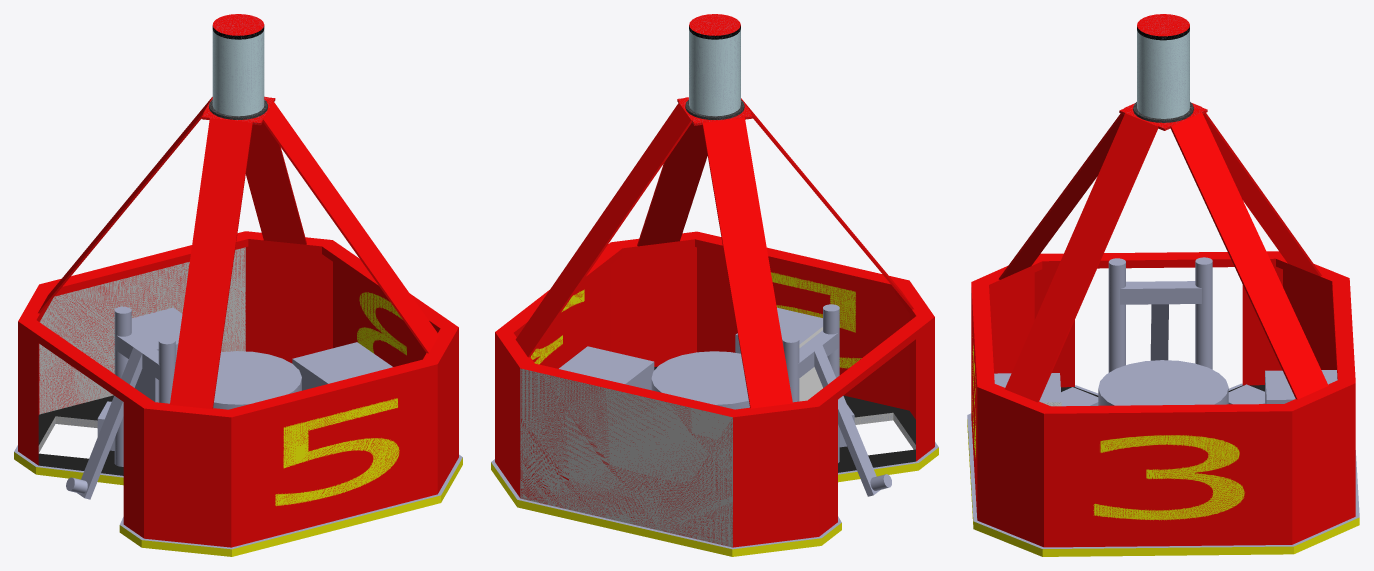
File: rival_frame5.dae
3 views of the same model, side by side, from view 1: azimuth 30°, elevation 25°; view 2: azimuth 150°, elevation 25°; view 3: azimuth 270°, elevation 25° (orthographic). The views are drawn at different scales.
Parts seen in each view (by area): view 1: SketchUp (×11), 支撑4, 支撑, 射门 (×3), 摄像头 (×2), 支撑2, 支撑3; view 2: SketchUp (×12), 支撑3, 支撑2, 摄像头 (×2), 支撑, 射门 (×3), 支撑4; view 3: SketchUp (×12), 支撑, 支撑2, 射门 (×2), 摄像头 (×2), 支撑4, 支撑3.
Part boxes in pixels (x1,y1,x2,y2): SketchUp (×11): [14, 231, 462, 556]; 支撑4: [170, 118, 252, 408]; 支撑: [263, 101, 439, 353]; 射门 (×3): [77, 306, 175, 499]; 摄像头 (×2): [212, 14, 264, 116]; 支撑2: [246, 122, 306, 244]; 支撑3: [38, 97, 212, 313]; SketchUp (×12): [491, 231, 938, 556]; 支撑3: [702, 117, 792, 408]; 支撑2: [515, 103, 691, 357]; 摄像头 (×2): [689, 14, 740, 116]; 支撑: [637, 97, 707, 246]; 射门 (×3): [782, 304, 880, 496]; 支撑4: [741, 98, 913, 309]; SketchUp (×12): [967, 251, 1359, 556]; 支撑: [1005, 113, 1158, 402]; 支撑2: [1170, 112, 1328, 399]; 射门 (×2): [1108, 257, 1212, 372]; 摄像头 (×2): [1137, 14, 1189, 118]; 支撑4: [998, 113, 1124, 279]; 支撑3: [1201, 107, 1321, 276].
Size of the model in its own units: 18.22 by 17.82 by 22.48.
